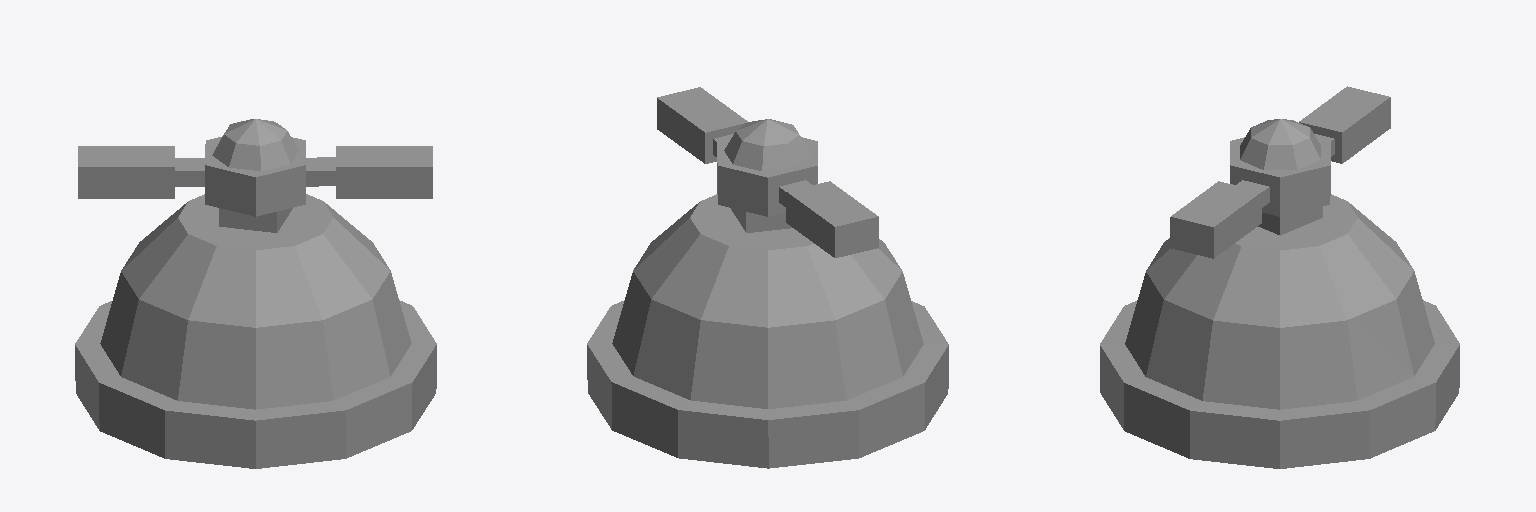
Rendered from RemoteBomb.obj.
3 views of the same model, side by side, from view 1: azimuth 30°, elevation 25°; view 2: azimuth 150°, elevation 25°; view 3: azimuth 270°, elevation 25° (orthographic).
Parts seen in each view (by area): view 1: Mesh.428_DrawCall_673; view 2: Mesh.428_DrawCall_673; view 3: Mesh.428_DrawCall_673.
Part boxes in pixels (left/top/right/bottom): Mesh.428_DrawCall_673: left=75, top=119, right=436, bottom=468; Mesh.428_DrawCall_673: left=587, top=87, right=948, bottom=468; Mesh.428_DrawCall_673: left=1100, top=86, right=1459, bottom=468.
Size of the model in its own units: 10.21 by 8.52 by 10.15.